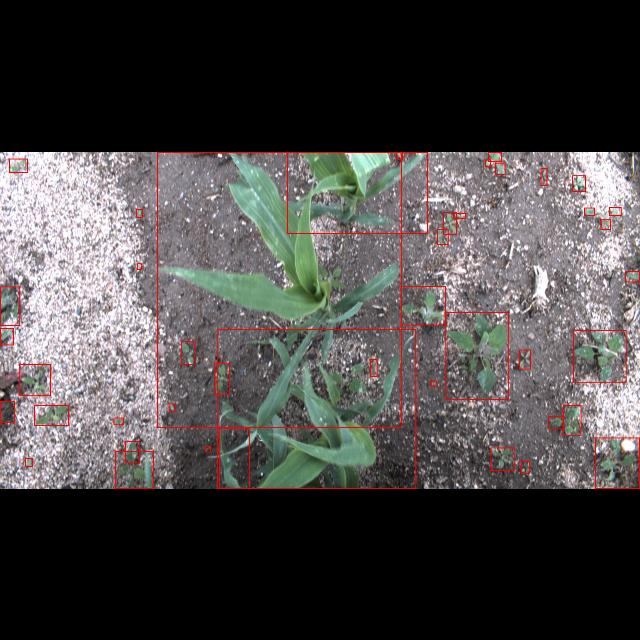crop: (157, 151, 401, 427), (218, 328, 416, 488), (286, 152, 428, 232), (219, 428, 249, 488)
weed: (446, 312, 508, 398), (574, 330, 626, 382), (595, 438, 639, 488), (401, 286, 445, 324), (115, 452, 153, 488), (20, 364, 50, 396), (1, 286, 20, 326), (34, 405, 68, 425), (563, 405, 581, 435), (491, 448, 514, 470), (214, 362, 230, 393), (181, 341, 195, 364), (125, 441, 139, 463), (0, 400, 14, 422), (8, 158, 28, 172), (444, 211, 456, 233), (0, 328, 14, 344), (572, 175, 586, 191), (548, 416, 564, 428), (520, 349, 530, 368), (438, 228, 448, 244), (370, 358, 378, 376), (625, 271, 639, 281), (488, 151, 502, 161), (520, 461, 530, 474), (495, 162, 505, 174), (541, 168, 547, 185), (601, 219, 611, 229), (609, 206, 621, 214), (584, 207, 594, 215), (454, 212, 466, 218), (114, 418, 124, 424), (26, 458, 32, 466), (169, 403, 175, 411), (137, 208, 143, 216), (136, 263, 142, 269), (396, 152, 402, 158), (486, 158, 490, 166), (206, 446, 210, 452), (432, 380, 436, 386)
